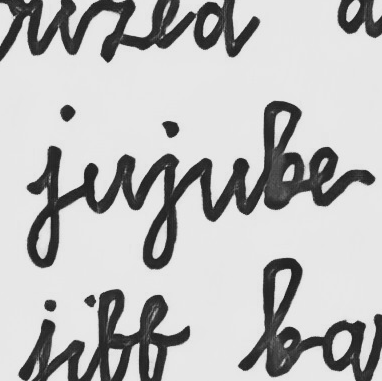b: (258, 98, 305, 212)
e: (307, 144, 351, 209)
j: (24, 103, 76, 270), (140, 118, 183, 272)
u: (196, 154, 251, 223), (81, 149, 136, 216)
